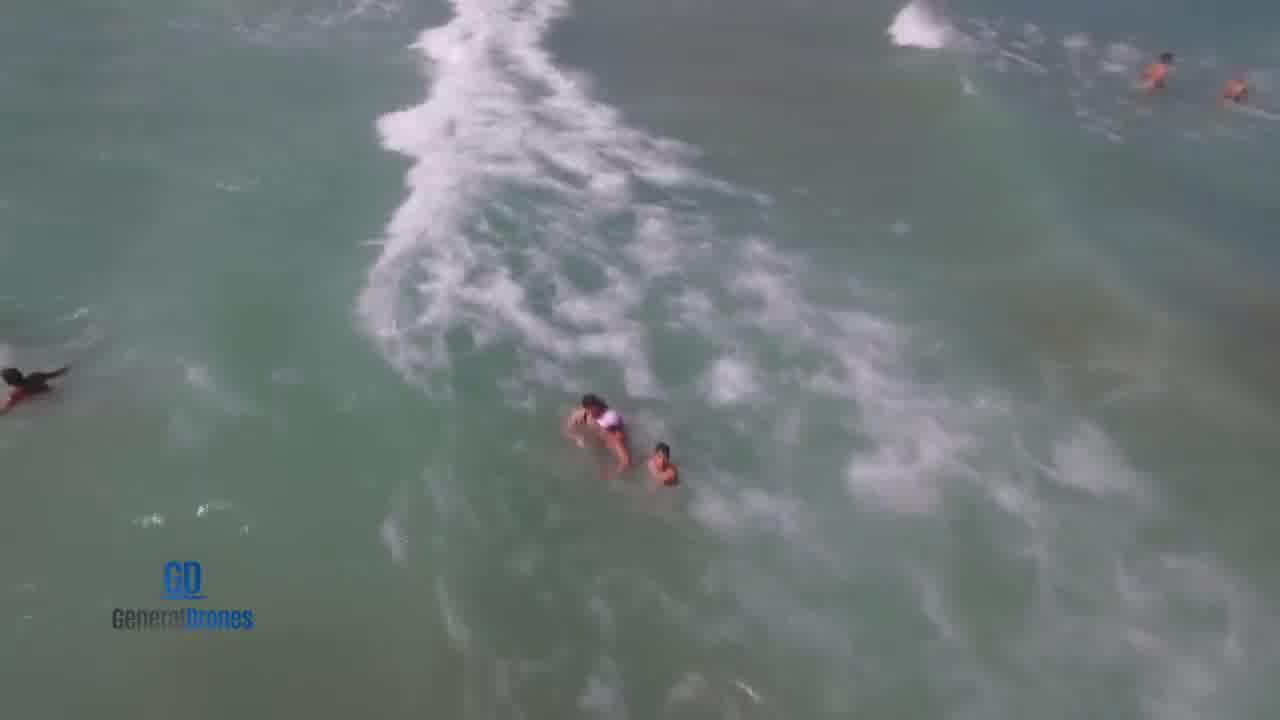swimmer: (551, 382, 635, 482), (0, 348, 89, 417), (643, 432, 690, 497)
